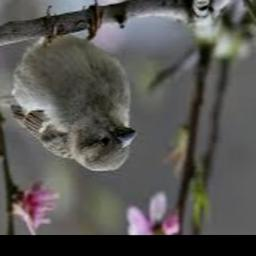Sparrow: (0, 0, 138, 172)
